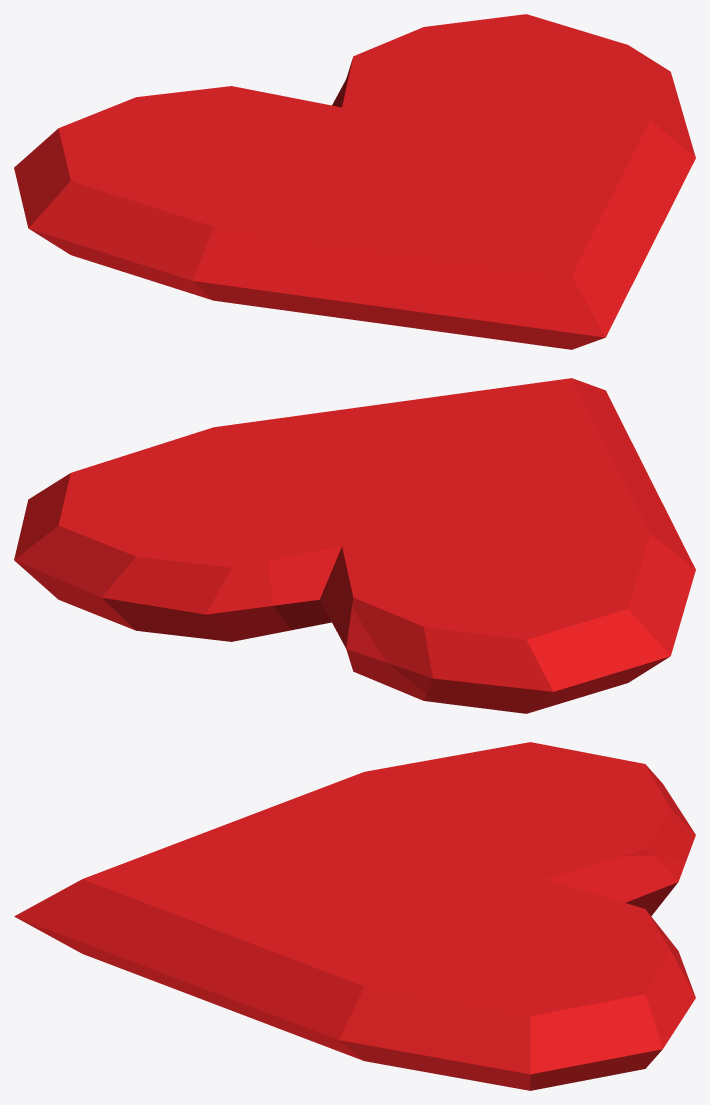
Rendered from heart.fbx.
The picture shows the model from 3 angles, top to bottom: view 1: azimuth 30°, elevation 25°; view 2: azimuth 150°, elevation 25°; view 3: azimuth 270°, elevation 25°; orthographic projection.
Parts seen in each view (by area): view 1: Heart.001, Heart.004, Heart.006, Heart.003, Heart.005, Heart.002; view 2: Heart.001, Heart.002, Heart.005, Heart.004, Heart.006, Heart.003; view 3: Heart.004, Heart.002, Heart.005, Heart.001, Heart.006, Heart.003.
Part boxes in pixels (box(x1,y1,x2,y2)): Heart.001: box(14, 86, 257, 301); Heart.004: box(428, 72, 695, 278); Heart.006: box(223, 135, 505, 328); Heart.003: box(389, 227, 634, 349); Heart.005: box(209, 73, 467, 207); Heart.002: box(334, 14, 679, 100); Heart.001: box(350, 518, 695, 713); Heart.002: box(14, 456, 290, 641); Heart.005: box(242, 498, 601, 703); Heart.004: box(124, 388, 521, 508); Heart.006: box(350, 434, 687, 554); Heart.003: box(495, 378, 652, 483); Heart.004: box(120, 869, 518, 1081); Heart.002: box(465, 899, 695, 1090); Heart.005: box(370, 788, 686, 934); Heart.001: box(336, 742, 695, 859); Heart.006: box(196, 782, 471, 903); Heart.003: box(14, 836, 239, 976).
Bounding box in the file's own units: 223 × 24.66 × 204.
